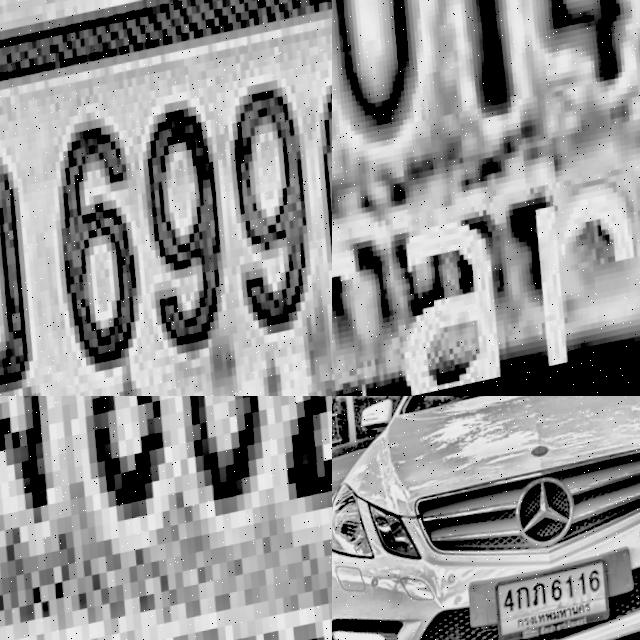license-plate: (0, 0, 332, 396), (332, 0, 640, 396), (0, 396, 332, 640), (495, 561, 617, 640)
